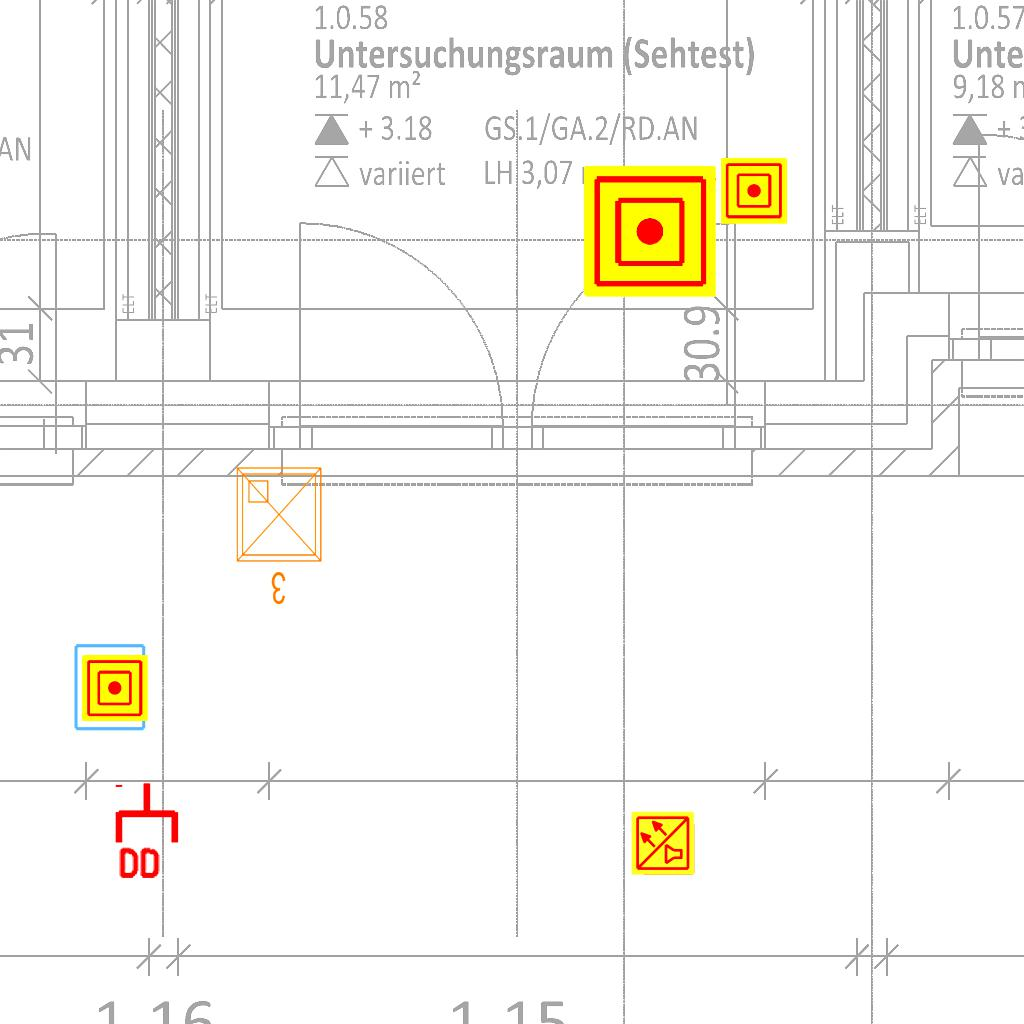Datenanschluss_zweifach: (114, 780, 183, 883)
Einbaudownlights_LED_Konferenzraeume: (229, 460, 333, 610)
KFO_Kamera_mit_Festobjektiv: (72, 642, 149, 733)
NAM-Nichtautomatischer_Melder: (584, 165, 716, 297), (721, 158, 787, 224), (82, 655, 148, 721)
OKW_Multisensormelder_(Kombination_optischer_Rauch-Kahlenmonoxid_Waerme-Melder): (630, 810, 696, 876)
